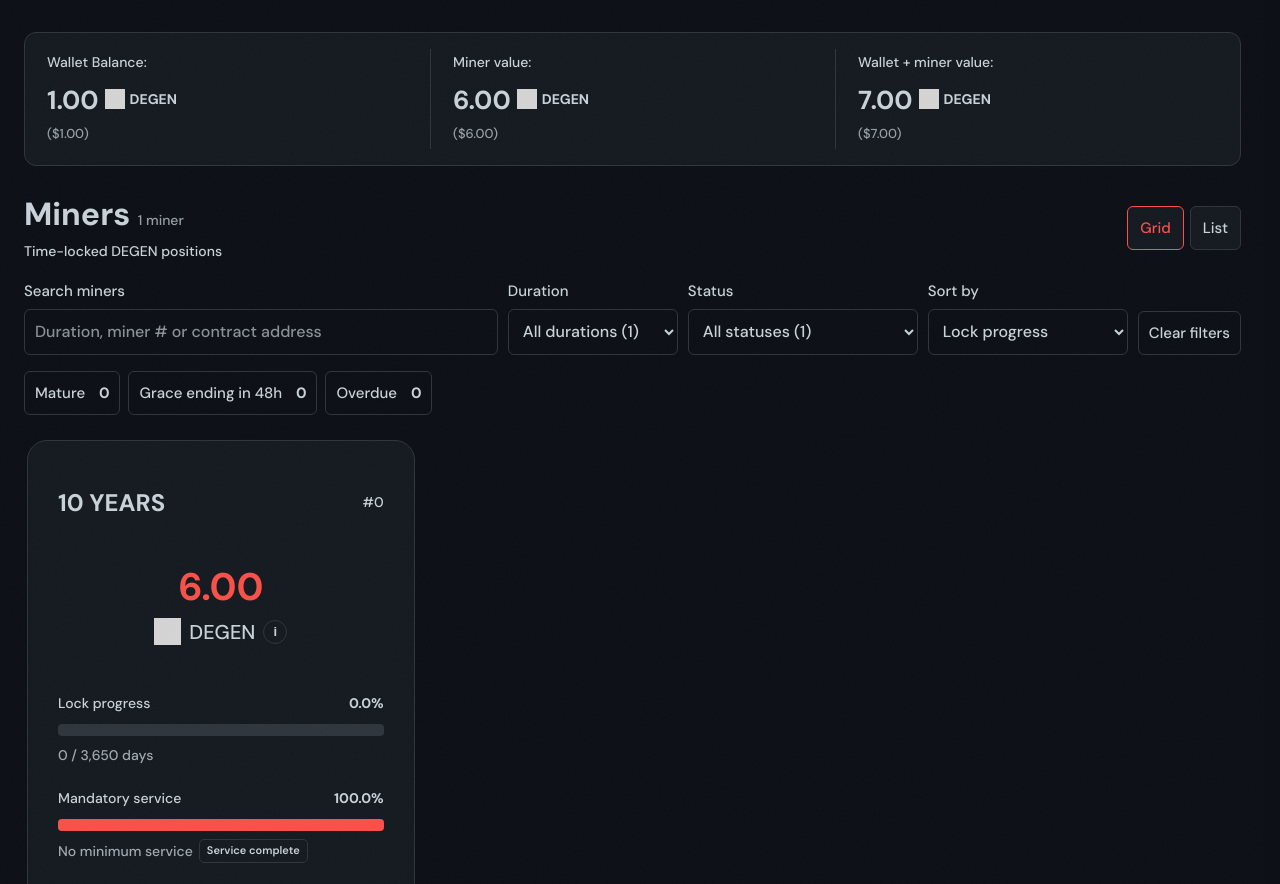
miner positions › does not label completed mandatory service as zero withdrawal penalty
Click the button with aria-label "List view" at (1215, 228), box [1190,206,1241,250]
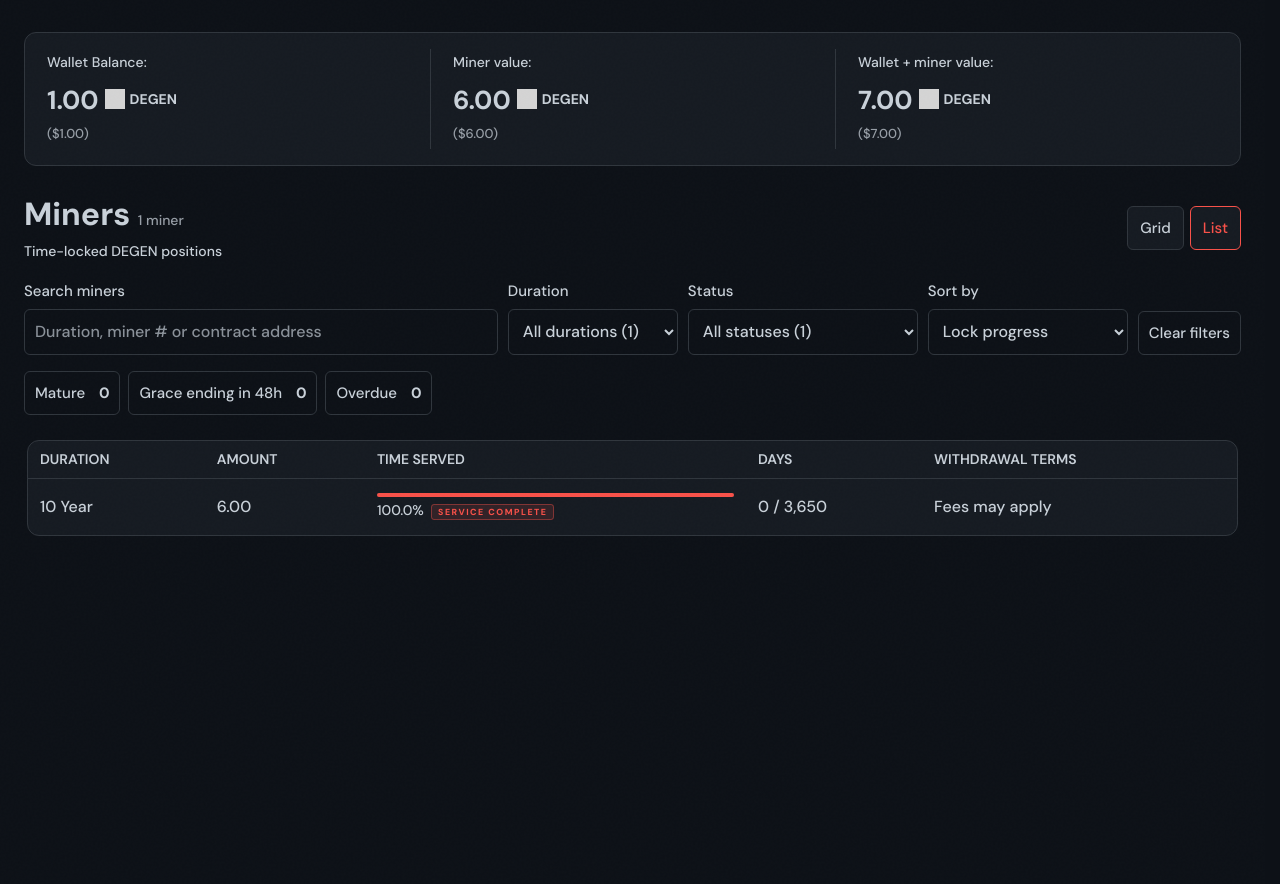
Result: the text "Fees may apply" is shown at [922,478,1237,535]
